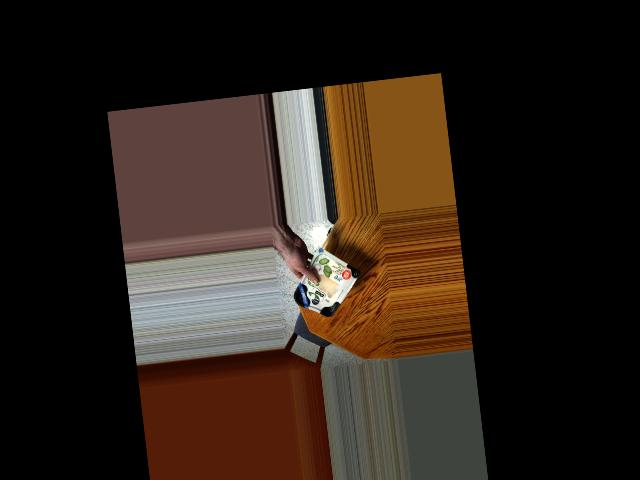cheese: (288, 255, 359, 320)
